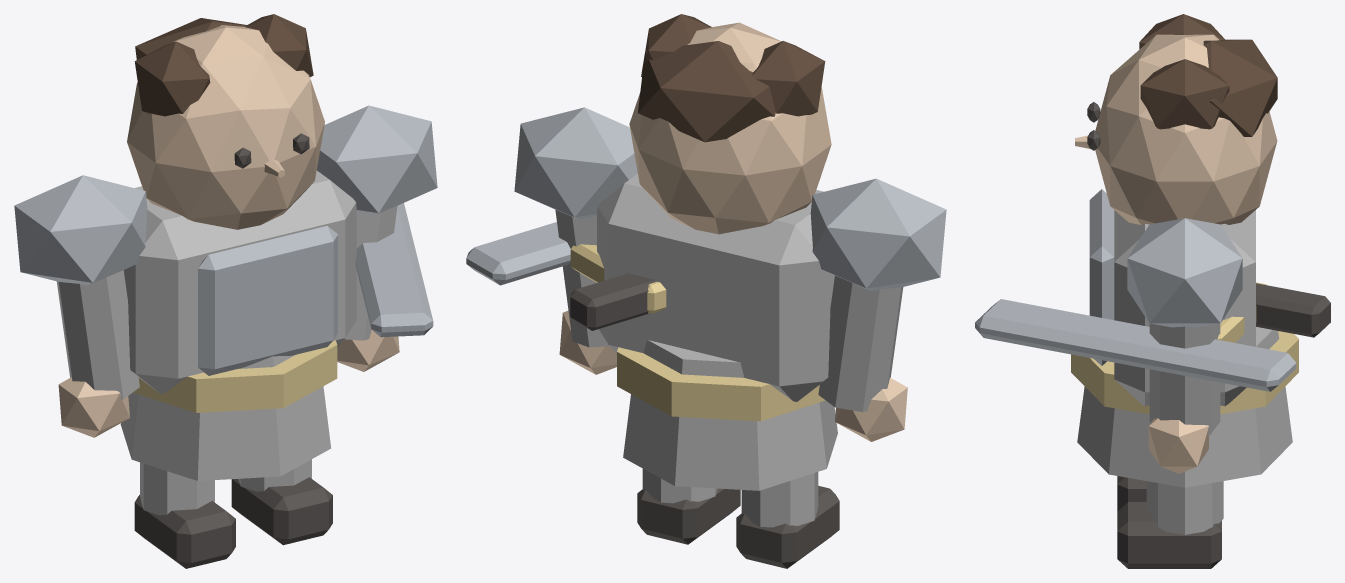
The model's file is minihero-warrior.glb.
The picture shows the model from 3 angles, left to right: view 1: azimuth 30°, elevation 25°; view 2: azimuth 150°, elevation 25°; view 3: azimuth 270°, elevation 25°; orthographic projection. The views are drawn at different scales.
Parts seen in each view (by area): view 1: head, warrior_chest, warrior_breastplate, warrior_waist, warrior_pauldron, warrior_pauldron.001, warrior_arm, warrior_belt, greatsword_blade, warrior_leg_l_boot, warrior_leg_r_boot, hair_left (+7 smaller); view 2: warrior_chest, head, warrior_waist, warrior_pauldron, warrior_pauldron.001, hair_back, warrior_arm, warrior_belt, warrior_leg_l_boot, greatsword_blade, hair_left, warrior_leg_r_boot (+8 smaller); view 3: head, greatsword_blade, warrior_waist, warrior_pauldron.001, warrior_chest, warrior_leg_r_boot, warrior_arm.001, hair_back, hair_right, warrior_belt, warrior_leg_r_leg, warrior_breastplate (+5 smaller).
Part boxes in pixels (box(x1,y1,x2,y2)): head: box(127, 25, 324, 229); warrior_chest: box(123, 170, 356, 393); warrior_breastplate: box(198, 226, 337, 375); warrior_waist: box(120, 355, 331, 480); warrior_pauldron: box(14, 175, 147, 285); warrior_pauldron.001: box(317, 105, 437, 215); warrior_arm: box(56, 270, 139, 399); warrior_belt: box(133, 340, 337, 412); greatsword_blade: box(355, 203, 433, 337); warrior_leg_l_boot: box(134, 495, 235, 568); warrior_leg_r_boot: box(231, 477, 332, 545); hair_left: box(134, 41, 210, 116); warrior_chest: box(597, 174, 834, 401); head: box(629, 22, 831, 234); warrior_waist: box(623, 340, 837, 490); warrior_pauldron: box(810, 178, 946, 291); warrior_pauldron.001: box(514, 107, 637, 219); hair_back: box(638, 41, 775, 142); warrior_arm: box(818, 275, 903, 412); warrior_belt: box(617, 347, 825, 421); warrior_leg_l_boot: box(736, 486, 839, 568); greatsword_blade: box(466, 222, 570, 285); hair_left: box(752, 41, 825, 116); warrior_leg_r_boot: box(637, 488, 740, 544); head: box(1095, 34, 1277, 224); greatsword_blade: box(975, 299, 1296, 391); warrior_waist: box(1077, 327, 1292, 487); warrior_pauldron.001: box(1127, 218, 1242, 327); warrior_chest: box(1114, 210, 1255, 406); warrior_leg_r_boot: box(1117, 502, 1221, 568); warrior_arm.001: box(1149, 323, 1220, 435); hair_back: box(1203, 39, 1277, 136); hair_right: box(1140, 59, 1229, 129); warrior_belt: box(1071, 331, 1298, 414); warrior_leg_r_leg: box(1146, 481, 1223, 534); warrior_breastplate: box(1089, 189, 1114, 365).
Bounding box in the file's own units: 1.56 × 1.79 × 1.16.
